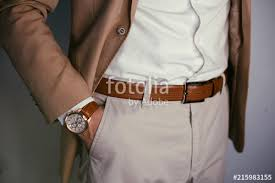F_belt: (83, 64, 244, 113)
